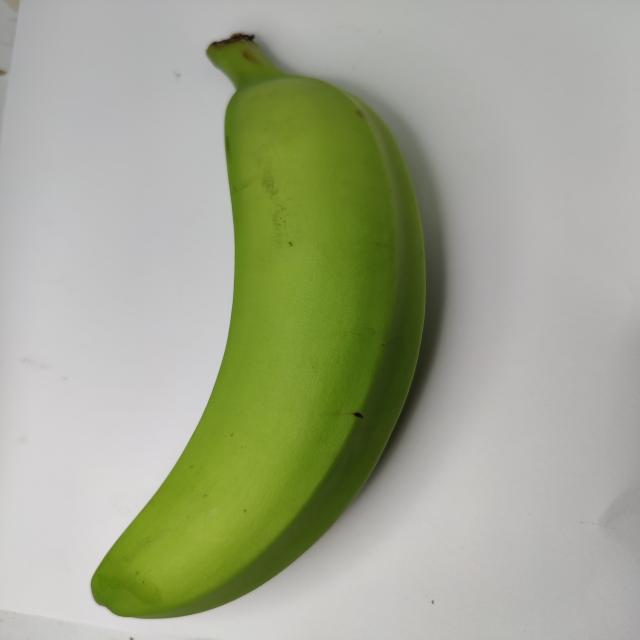raw: (51, 18, 455, 640)
